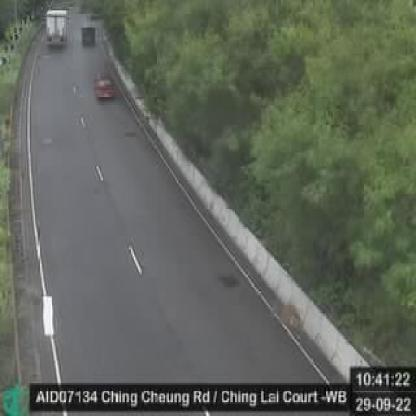Car: (88, 69, 119, 104), (77, 24, 100, 50)
Truck: (39, 3, 69, 47)
